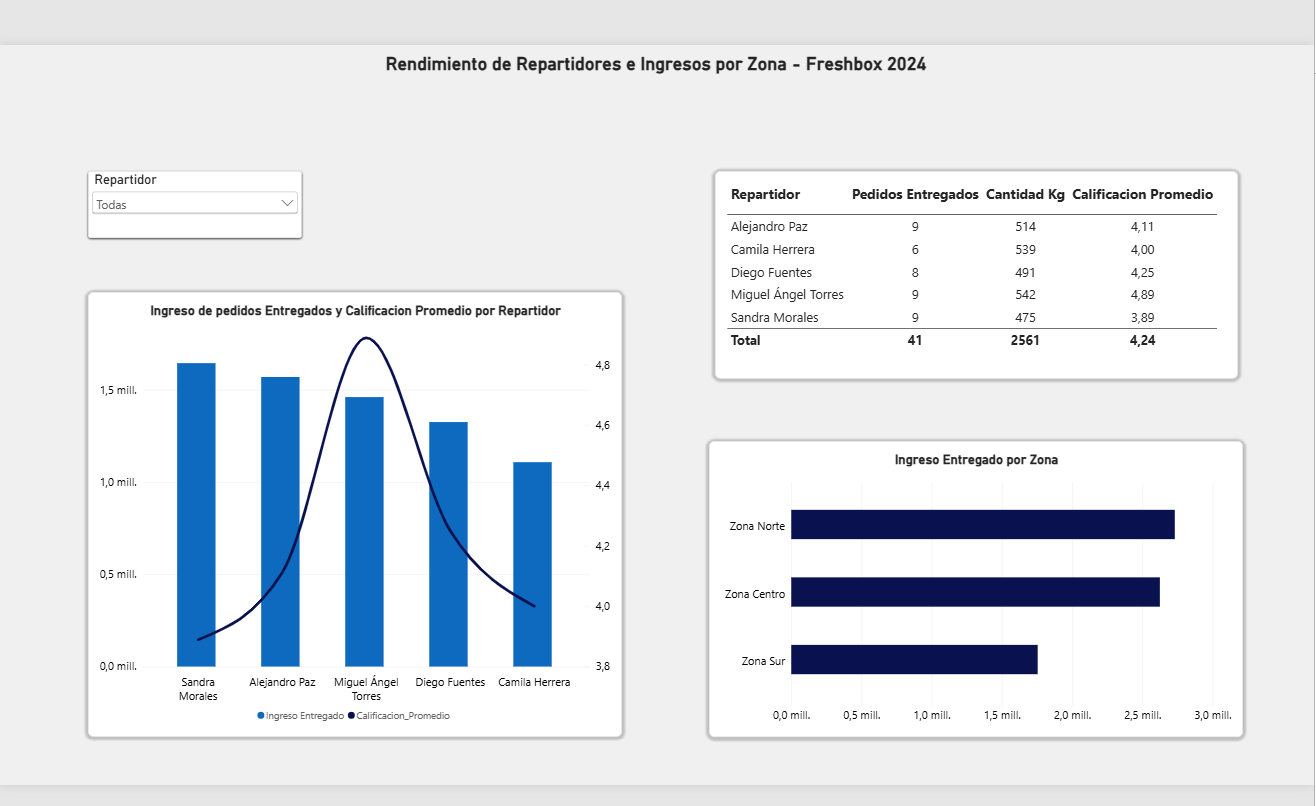

What the dashboard file says about the page in this screenshot:
{"tool":"powerbi","page":{"name":"Operaciones","canvas":[1920,1080],"ordinal":1},"visuals":[{"type":"slicer","fields":{"Values":["Repartidores (2).Nombre"]},"box":[132,183.7,311.8,98.3],"z":0},{"type":"barChart","fields":{"Y":["Pedidos.Ingreso Entregado"],"Category":["Clientes (2).Zona"]},"box":[1037.6,578.3,778.9,432.1],"z":1000},{"type":"lineClusteredColumnComboChart","title":"Ingreso de pedidos Entregados y Calificacion Promedio por Repartidor","fields":{"Y":["Pedidos.Ingreso Entregado"],"Category":["Repartidores (2).Nombre"],"Y2":["Pedidos.Calificacion_Promedio"]},"box":[132,361,778.9,649.5],"z":2000},{"type":"tableEx","fields":{"Values":["Repartidores (2).Nombre","Pedidos.Entregados","Sum(Pedidos.Cantidad_Kg)","Pedidos.Calificacion_Promedio"]},"box":[1045.4,183.7,763.3,302.7],"z":3000},{"type":"textbox","title":"Rendimiento de Repartidores e Ingresos por Zona - Freshbox 2024","box":[536.9,11.6,846.1,41.4],"z":4000}]}

Visuals, with their boxes on the page's 1920x1080 design canvas (x1, y1, x2, y2). These are canvas units, not pixel positions in the 1316x806 screenshot, which may show the page scaled, cropped or inside an application window:
slicer - Repartidores (2).Nombre: BBox(132, 184, 444, 282)
barChart - Pedidos.Ingreso Entregado x Clientes (2).Zona: BBox(1038, 578, 1816, 1010)
"Ingreso de pedidos Entregados y Calificacion Promedio por Repartidor" lineClusteredColumnComboChart: BBox(132, 361, 911, 1010)
tableEx - Repartidores (2).Nombre x Pedidos.Entregados: BBox(1045, 184, 1809, 486)
"Rendimiento de Repartidores e Ingresos por Zona - Freshbox 2024" textbox: BBox(537, 12, 1383, 53)
